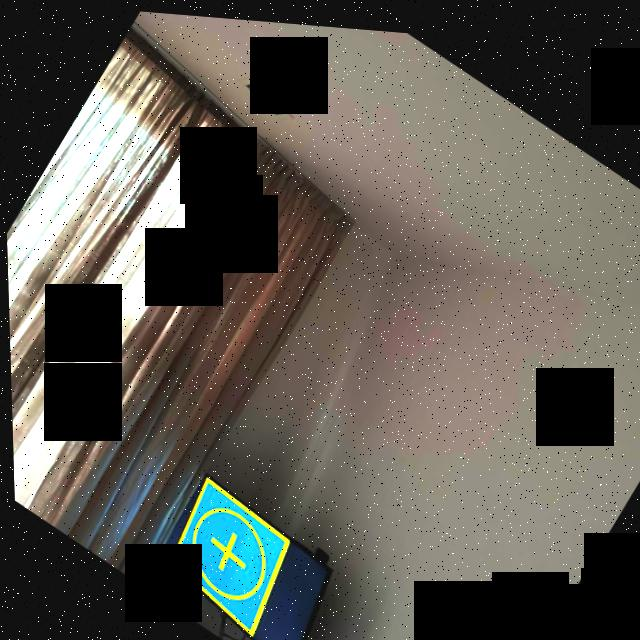Marker: (145, 469, 308, 637)
